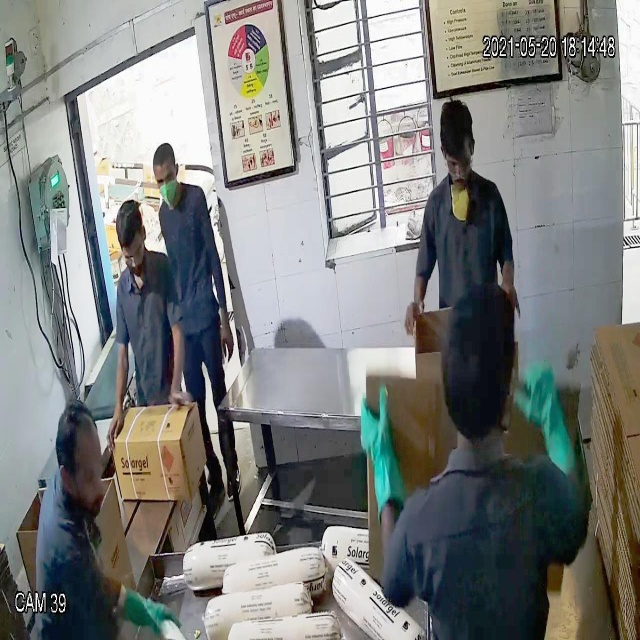Gafas: (440, 141, 477, 185), (118, 228, 146, 271)
Sin_gafas: (150, 163, 183, 192)
